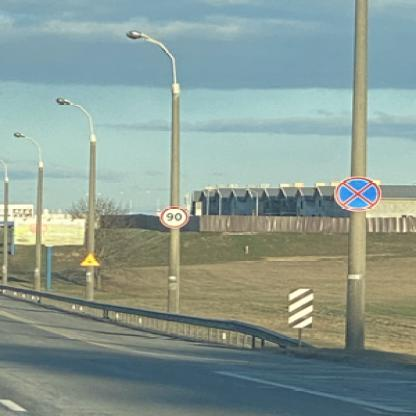speedlimit: (158, 206, 186, 227)
